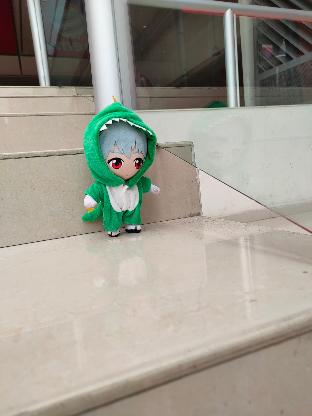rei-plush: (83, 118, 159, 178)
